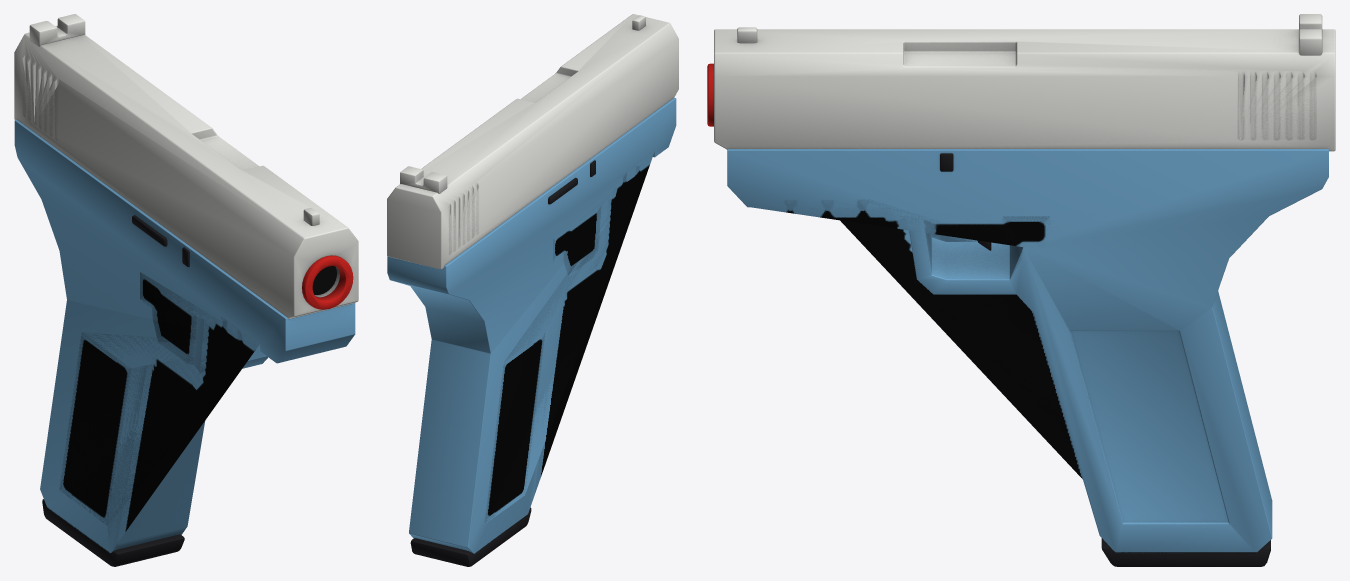
File: ToyGunModel.obj
3 renders of one model, left to right at view 1: azimuth 30°, elevation 25°; view 2: azimuth 150°, elevation 25°; view 3: azimuth 270°, elevation 25°, orthographic. The views are drawn at different scales.
Parts seen in each view (by area): view 1: ToyGunModel; view 2: ToyGunModel; view 3: ToyGunModel.
Boxes of the visible parts, <box> form: ToyGunModel: <box>14,14,358,566</box>; ToyGunModel: <box>387,14,678,566</box>; ToyGunModel: <box>707,14,1335,566</box>.
Bounding box in the file's own units: 0.0288 × 0.174 × 0.189.
Materials: 1 (1 with a texture image).
